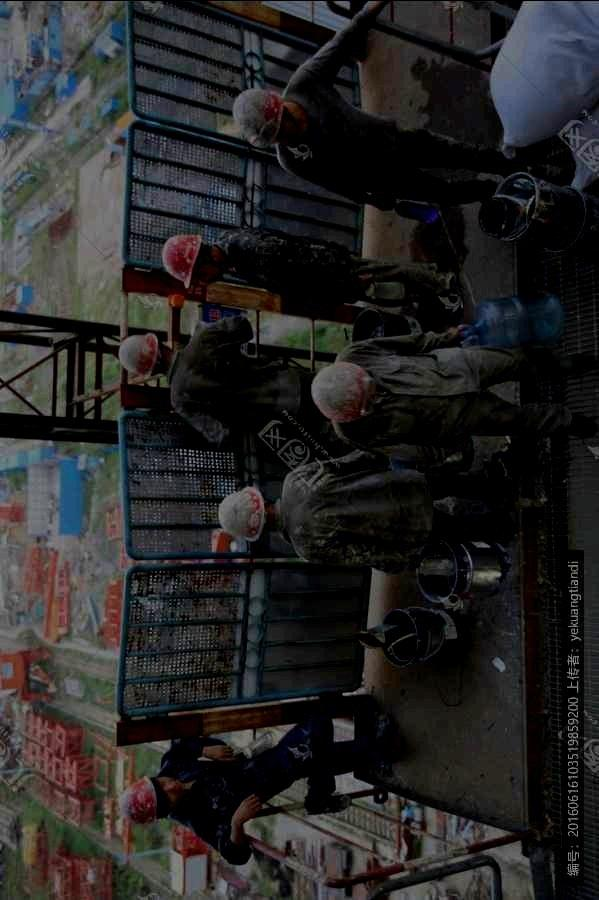helmet: (231, 88, 302, 150), (310, 361, 379, 422), (161, 233, 222, 289), (120, 775, 184, 825), (217, 487, 275, 542), (118, 333, 172, 380)
